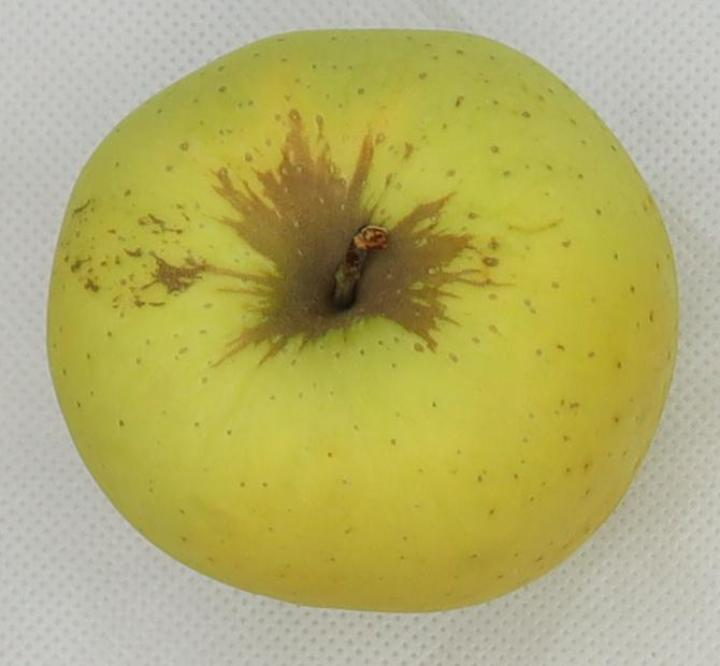apple: (48, 30, 677, 610)
bruise_discoloration: (139, 109, 498, 362)
